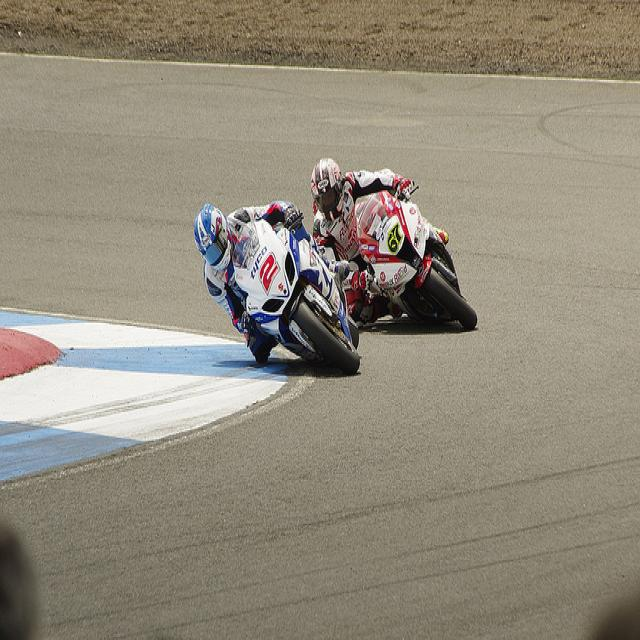motor: (233, 214, 359, 375), (354, 179, 478, 329)
